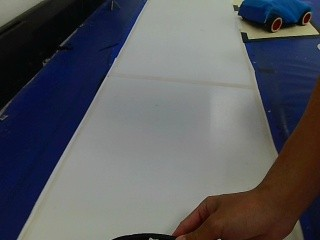car: (235, 0, 315, 34)
